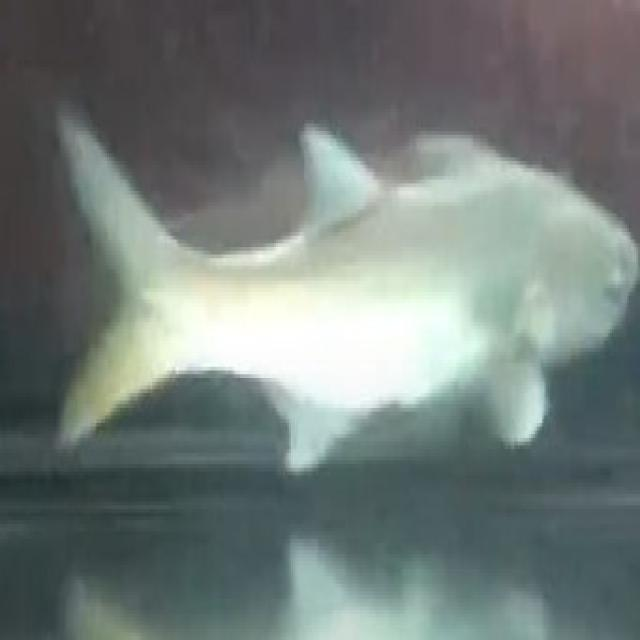Fourfinger-Threadfin: (43, 46, 640, 496)
